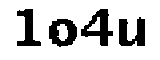1: (15, 7, 42, 49)
4: (81, 7, 114, 49)
o: (47, 16, 78, 50)
u: (117, 15, 149, 48)
